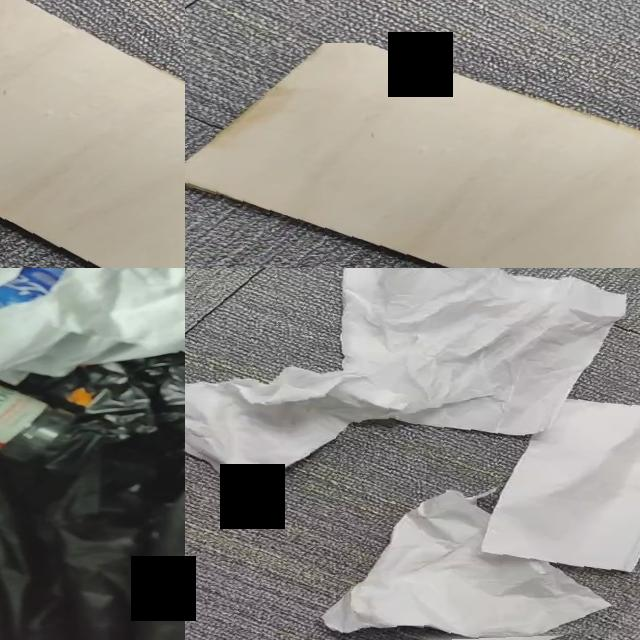bottle: (0, 385, 73, 458)
carton: (185, 43, 640, 268), (0, 0, 185, 268)
paper: (185, 268, 640, 640), (0, 268, 185, 376)
